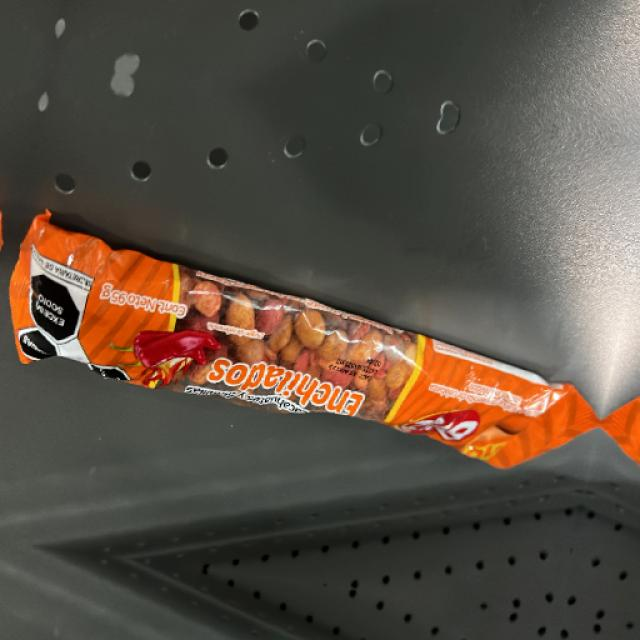bitzEnchilado95: (0, 302, 541, 416)
